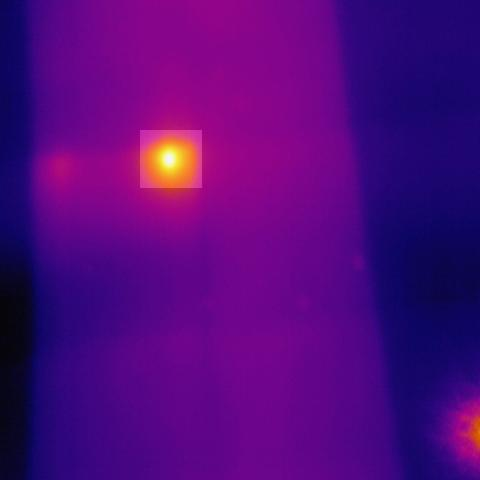fault: (140, 130, 202, 188)
